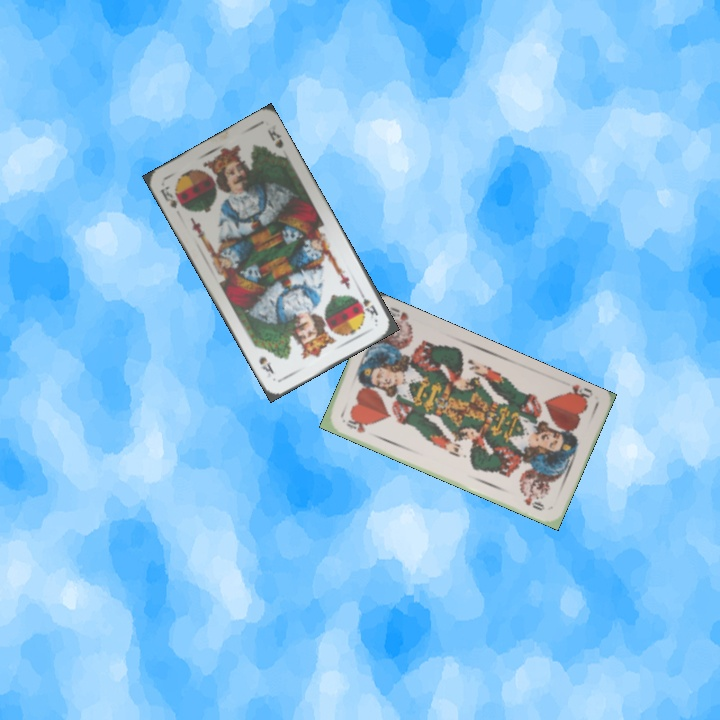HO: (558, 380, 596, 406), (342, 416, 370, 436)
SK: (355, 286, 381, 321), (156, 181, 186, 211)
